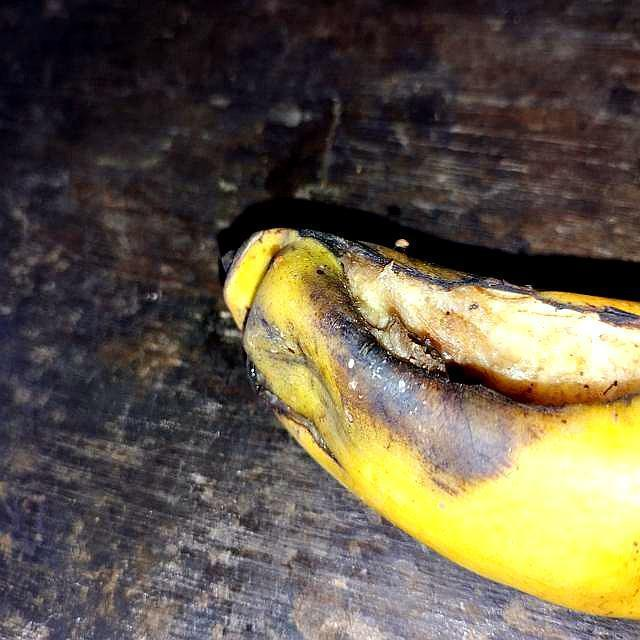Biodegradable: (166, 184, 640, 640)
